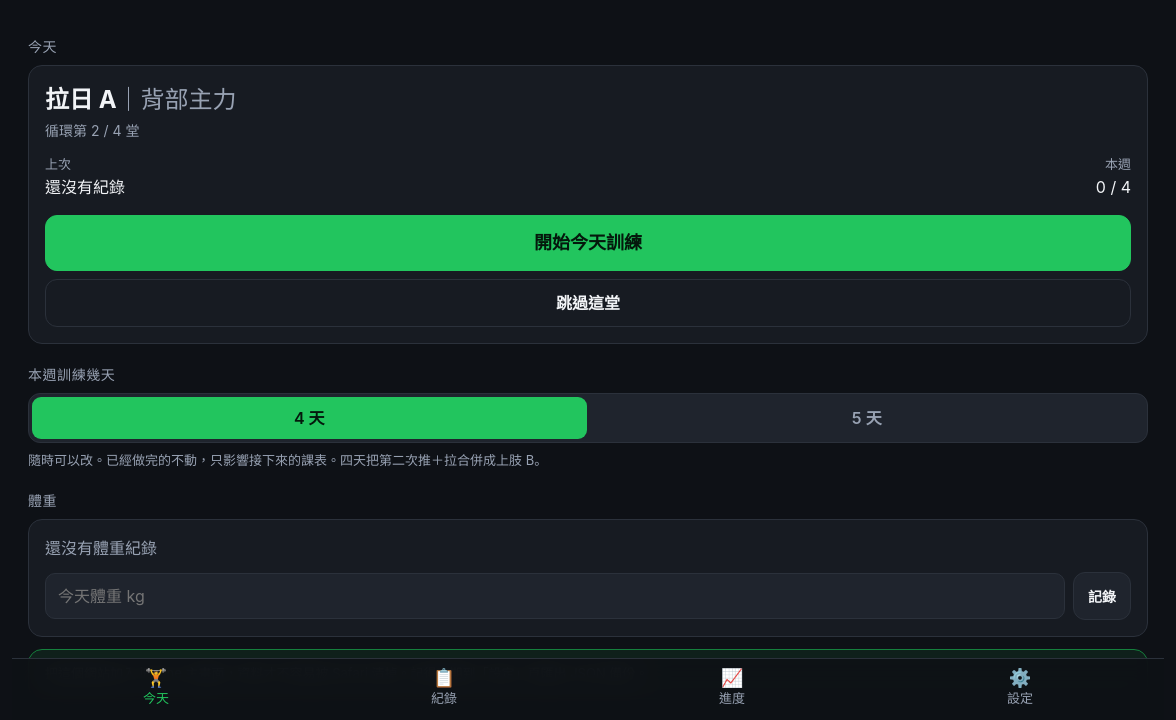
設定頁的空槓重量 › 有掛片式機器怎麼記的說明
Click the button "⚙️ 設定". click: (1020, 689)
box: 876,658 -> 1164,719
(page scrolled)
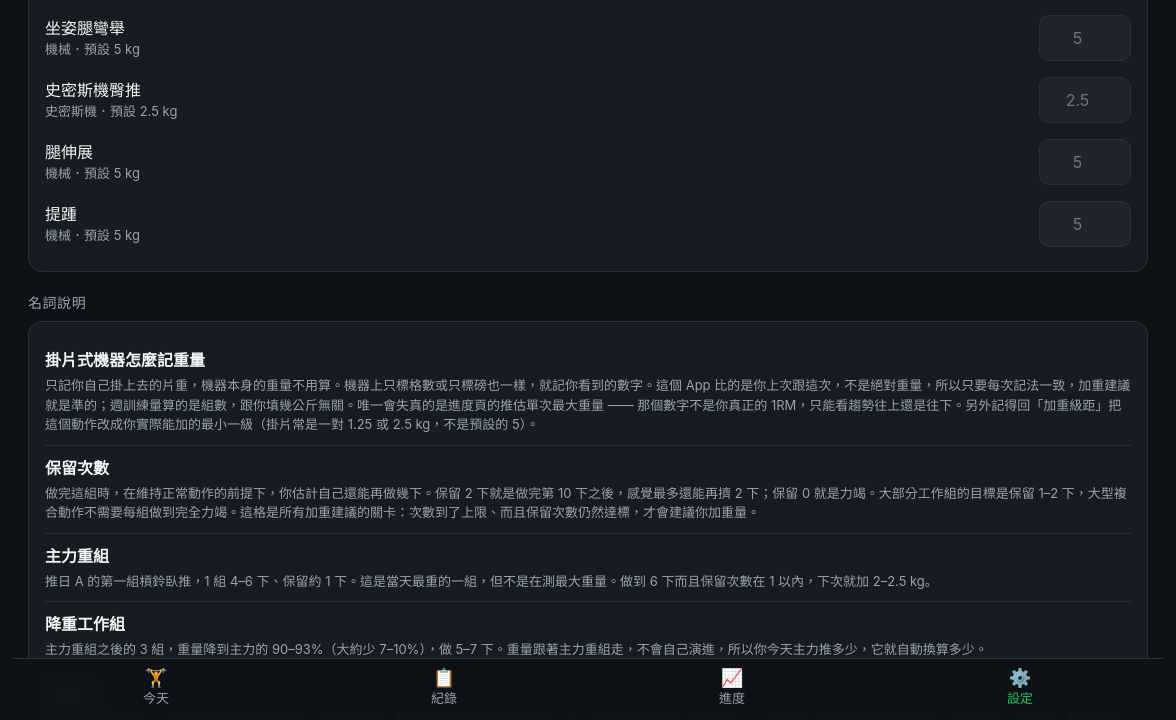
Expected: the text "掛片式機器怎麼記重量" is shown, 45,350 -> 205,370
